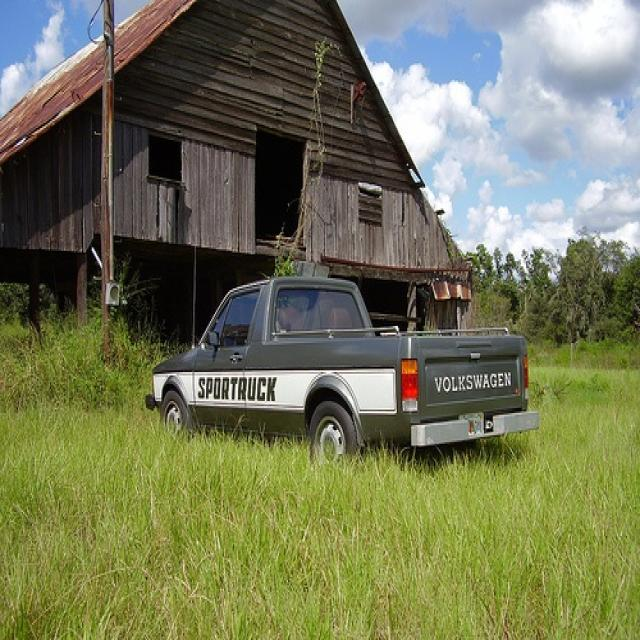car: (145, 275, 540, 464)
